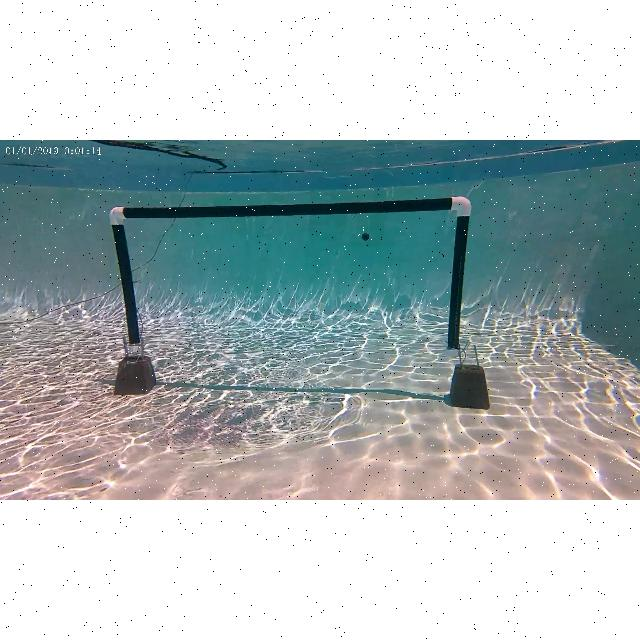prequal gate: (106, 195, 472, 359)
prequal gate leg l: (105, 199, 155, 365)
prequal gate leg r: (442, 192, 480, 372)
